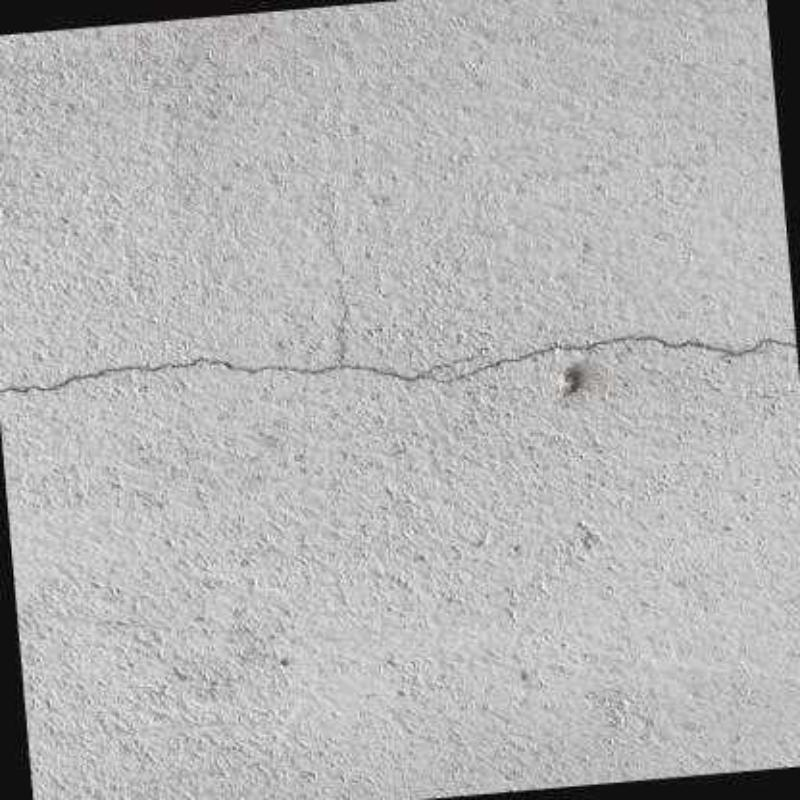pothole: (1, 215, 480, 395), (444, 337, 797, 384)
